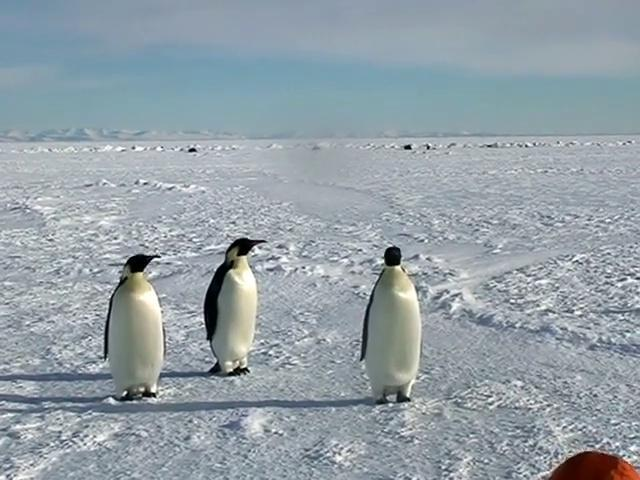animal: (361, 247, 422, 404)
